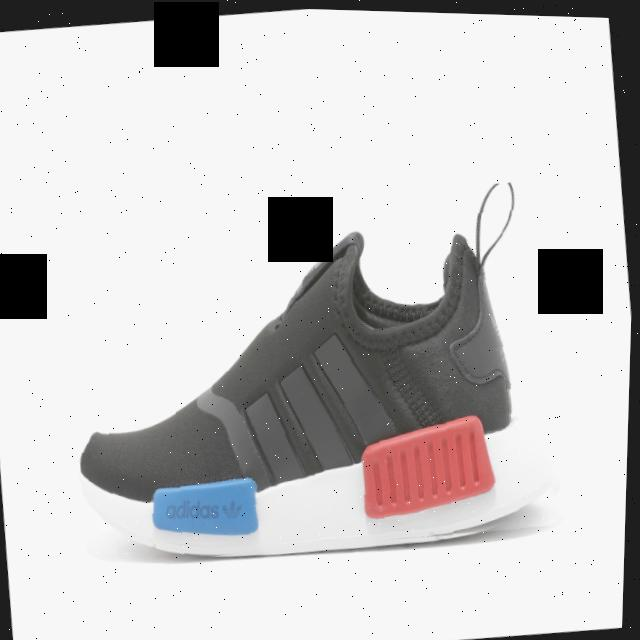shoe: (54, 166, 573, 577)
